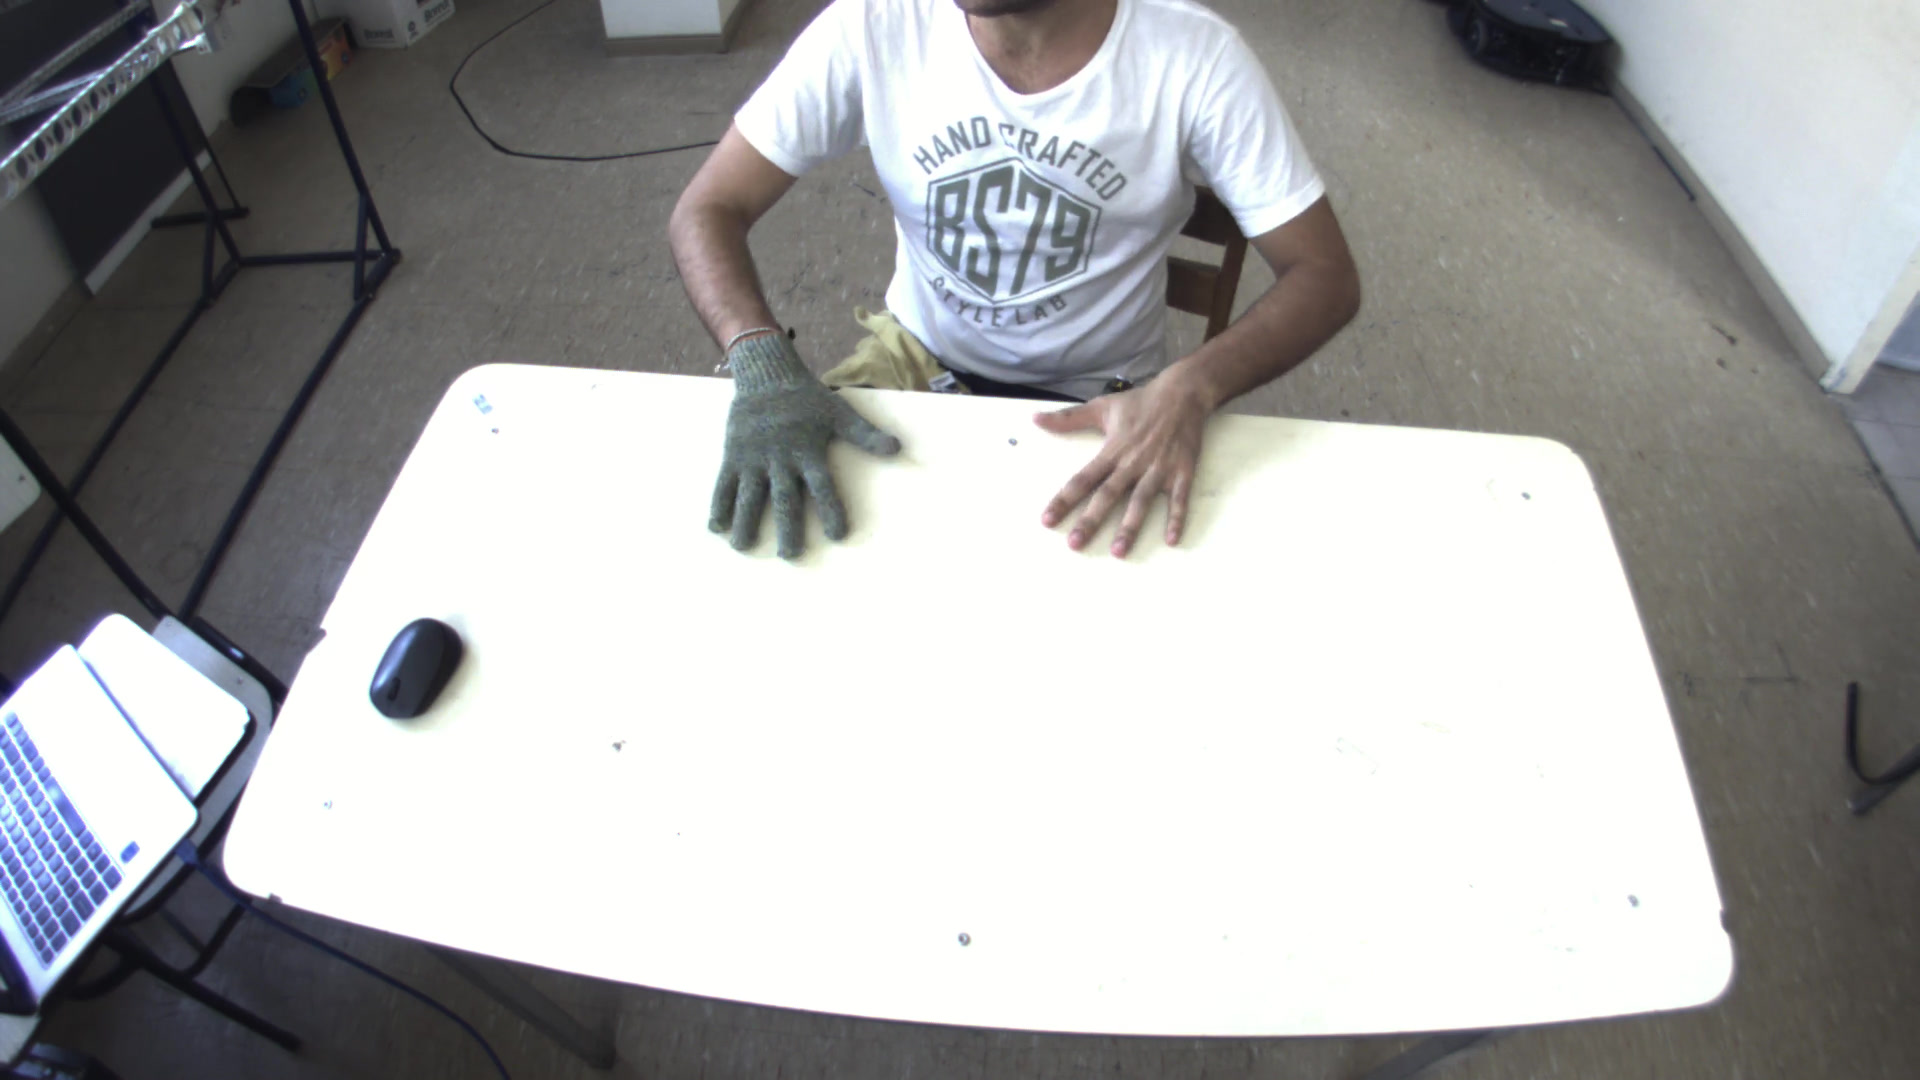hand: (692, 315, 903, 564), (1026, 357, 1228, 568)
